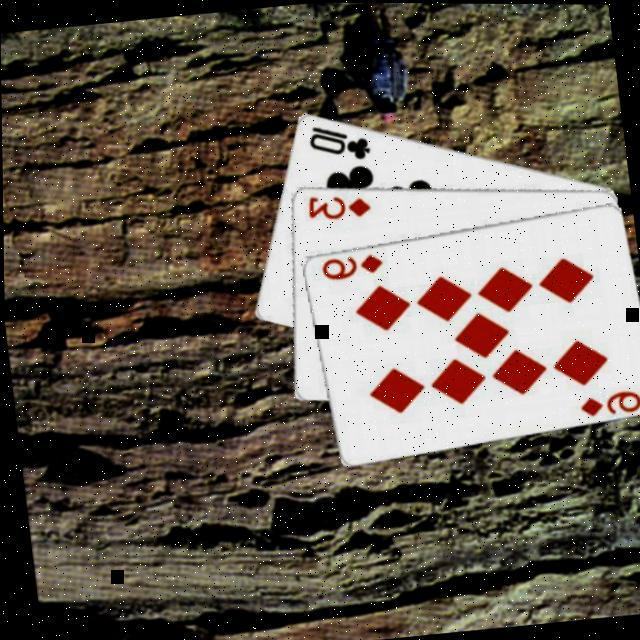10C: (301, 117, 372, 167)
3D: (301, 187, 372, 224)
9D: (313, 249, 384, 284), (571, 385, 640, 420)
